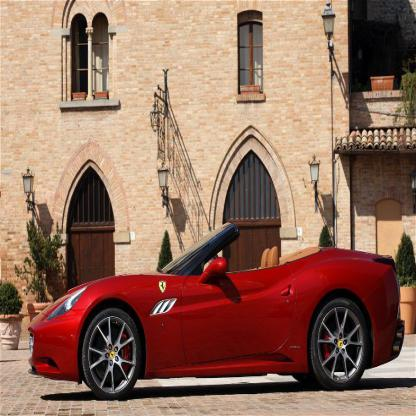Vehicle: (28, 224, 407, 402)
